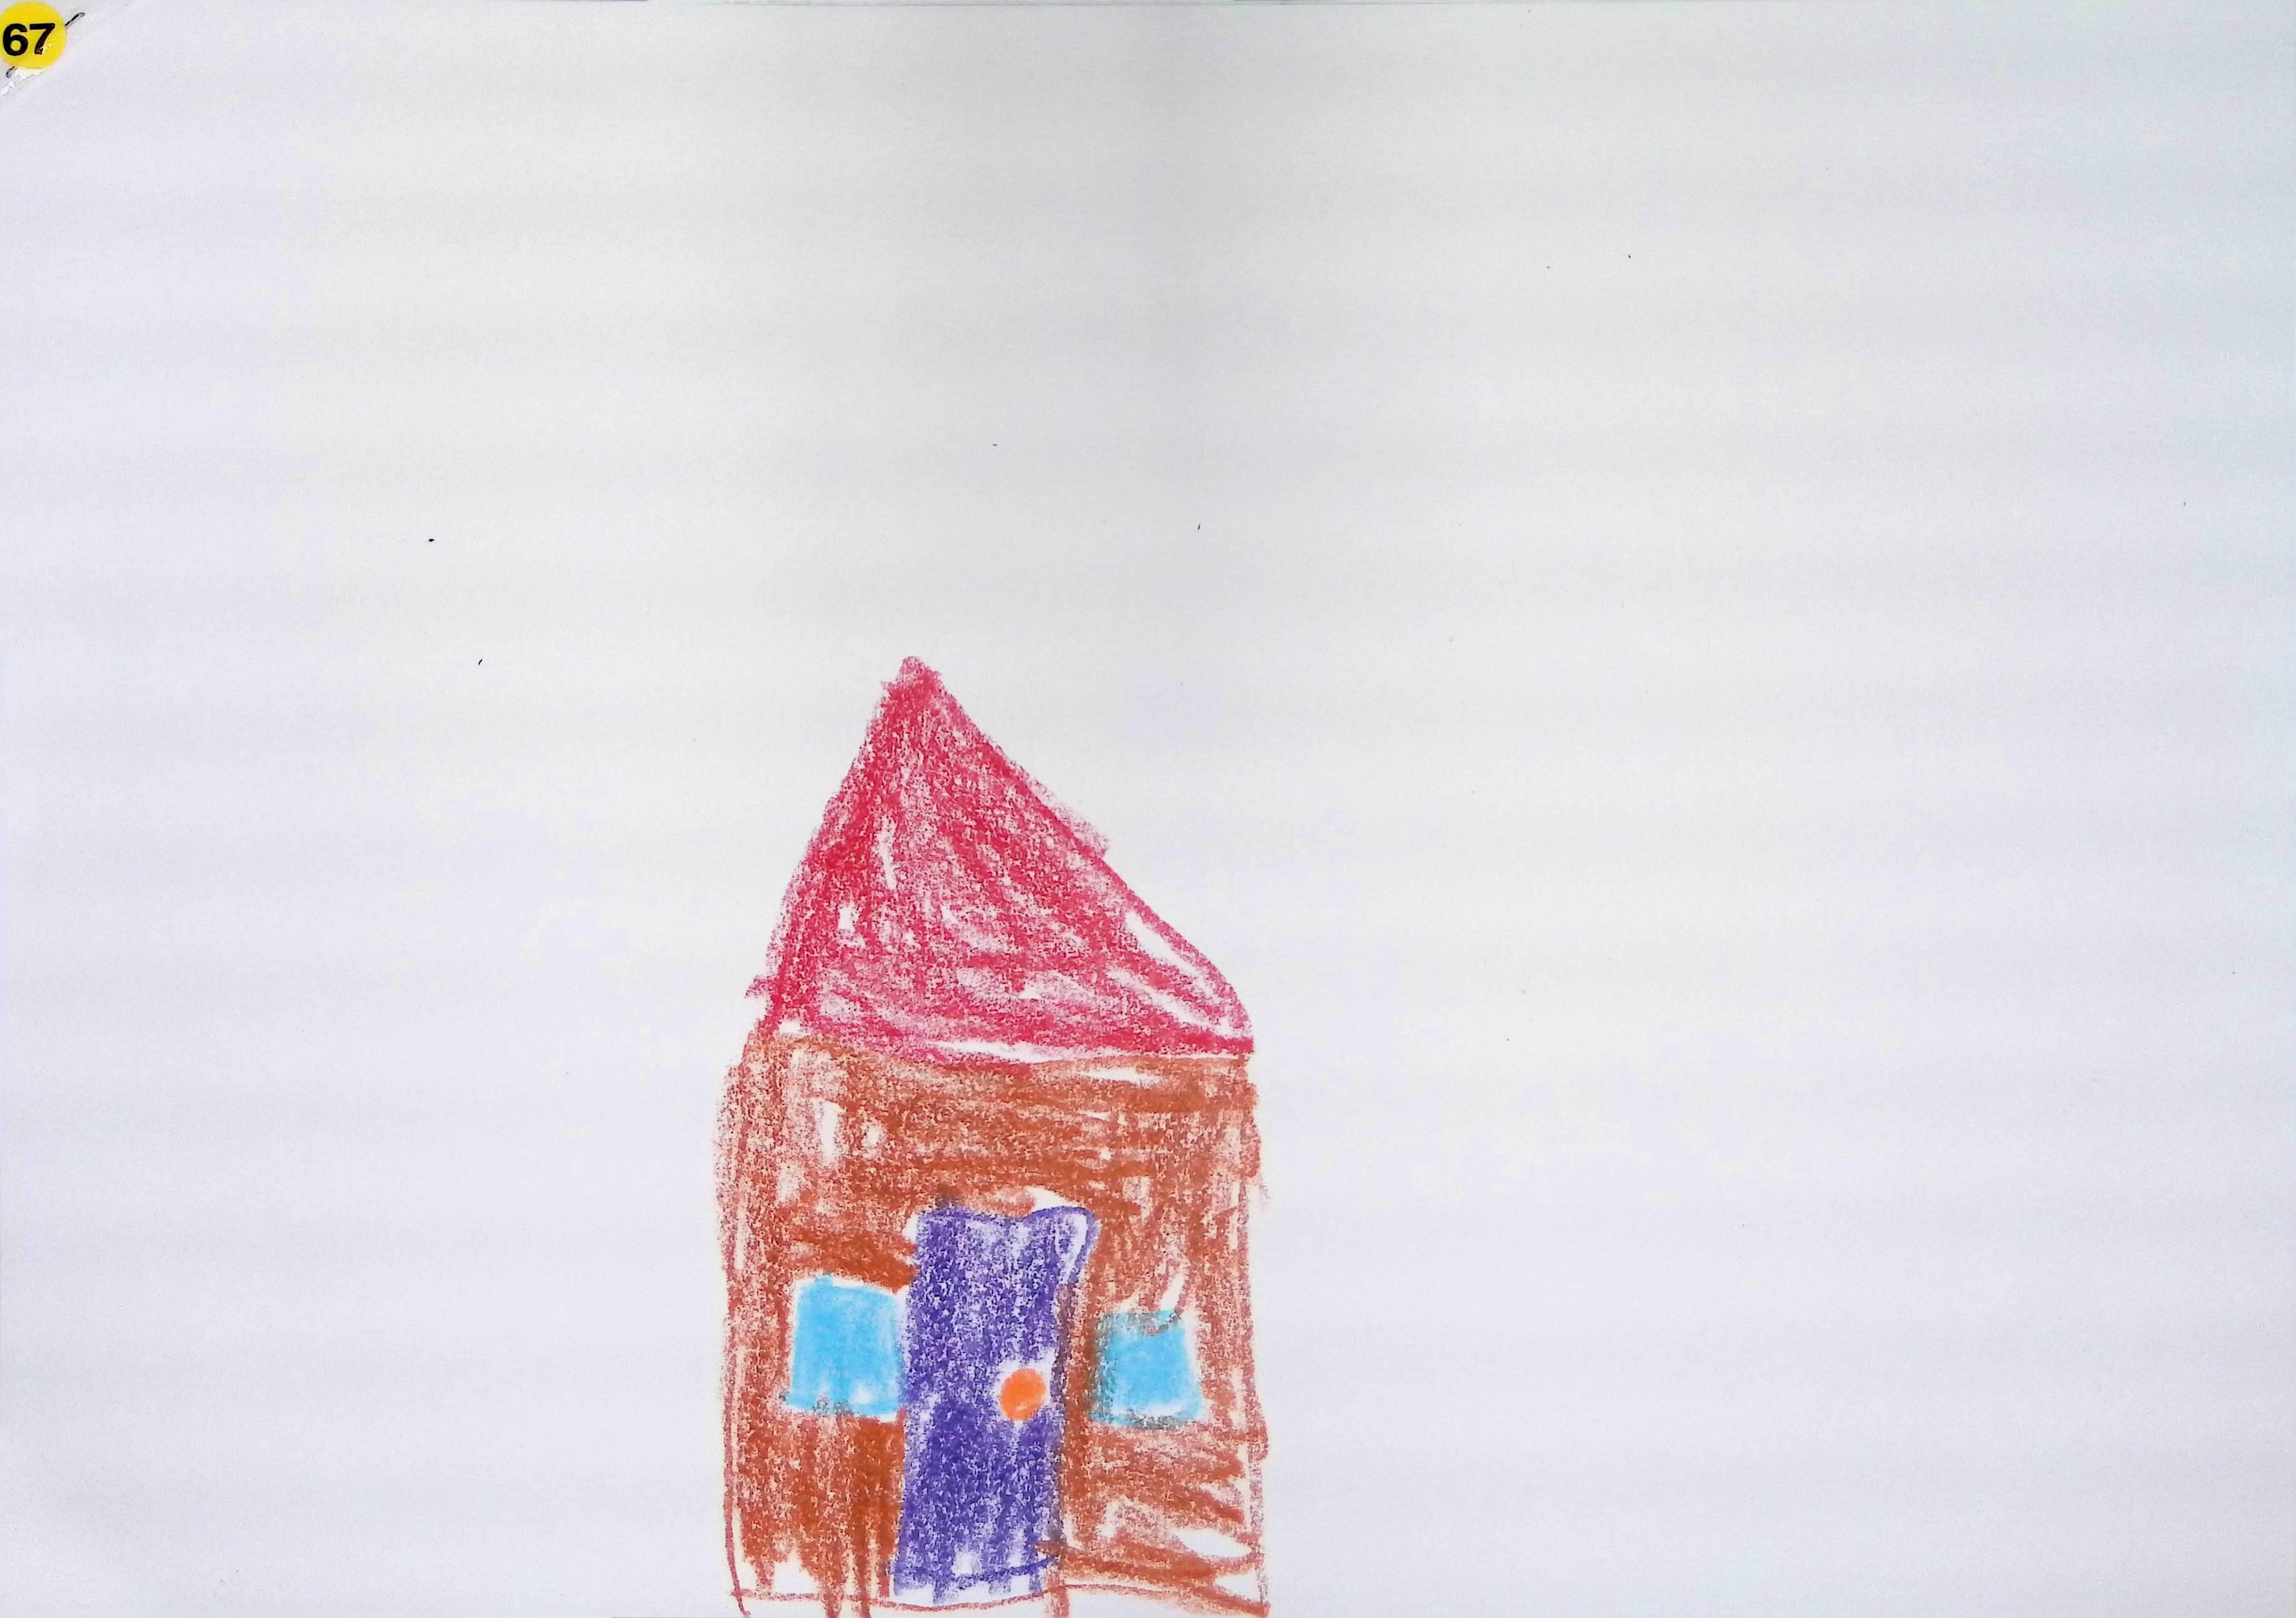door: (891, 1206, 1098, 1607)
house: (716, 658, 1266, 1618)
roof: (748, 657, 1252, 1063)
wall: (716, 1031, 1266, 1618)
window: (785, 1277, 904, 1422), (1091, 1312, 1203, 1431)
